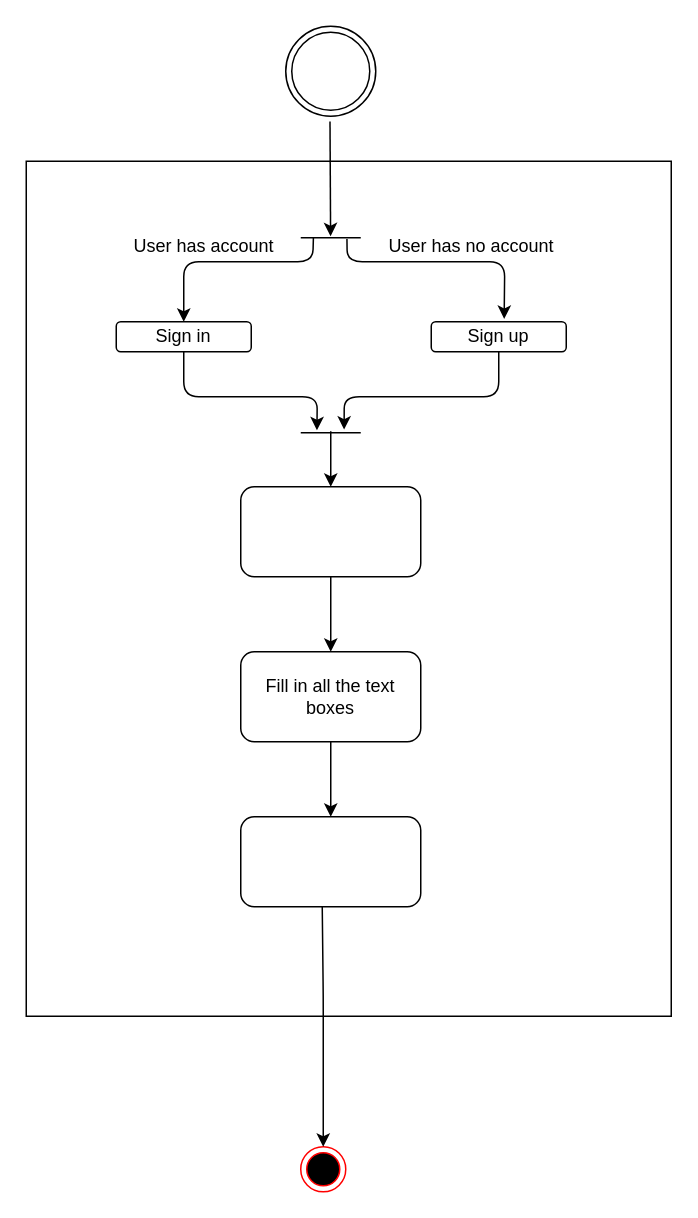
Image size: 698x1218. Some labels were removed from this diagram. Each missing label, with the centre of its shape:
Press button "Add new person": [330,531]
Press button "Add!": [330,861]
